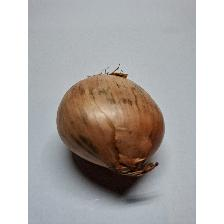Zwiebel: (53, 67, 169, 180)
